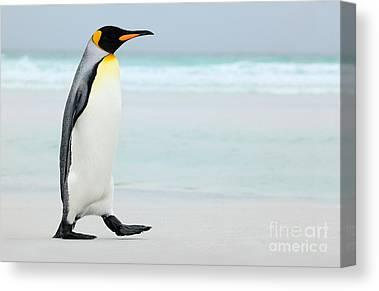king: (42, 12, 149, 253)
